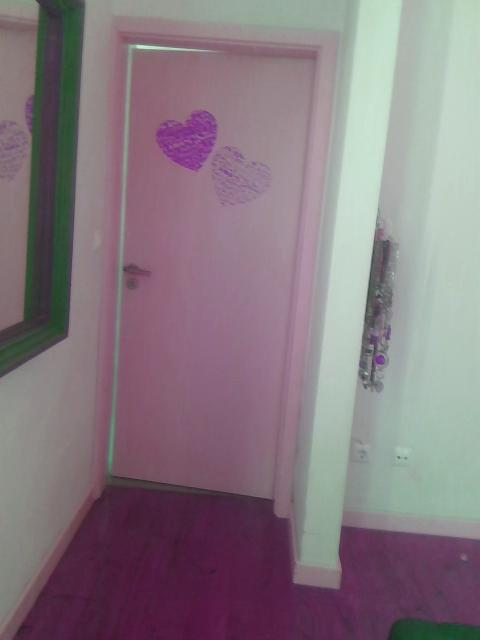closed_door: (104, 28, 338, 519)
